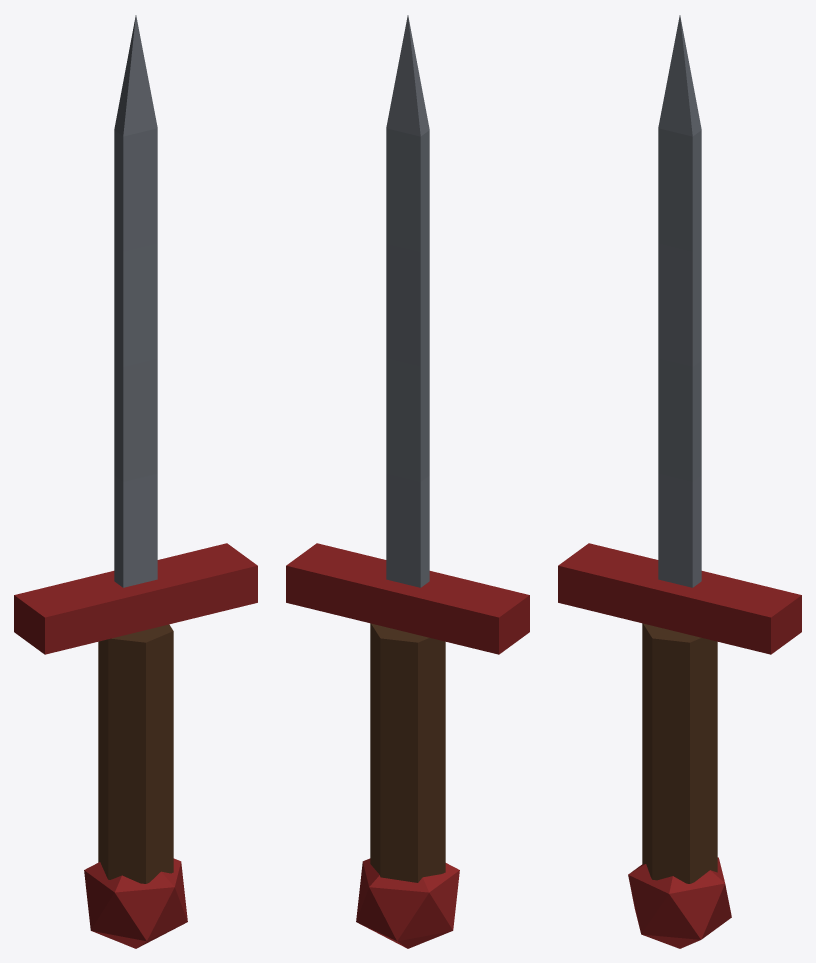
File: weapon_twin_khopesh.glb
3 views of the same model, side by side, from view 1: azimuth 30°, elevation 25°; view 2: azimuth 150°, elevation 25°; view 3: azimuth 330°, elevation 25° (orthographic).
Visible parts, largest first — view 1: human_weapon_twin_khopesh; view 2: human_weapon_twin_khopesh; view 3: human_weapon_twin_khopesh.
Part boxes in pixels (box(x1,y1,x2,y2)): human_weapon_twin_khopesh: box(14, 15, 257, 948); human_weapon_twin_khopesh: box(286, 15, 529, 948); human_weapon_twin_khopesh: box(558, 15, 801, 948).
Size of the model in its own units: 0.144 by 0.6042 by 0.0582.
